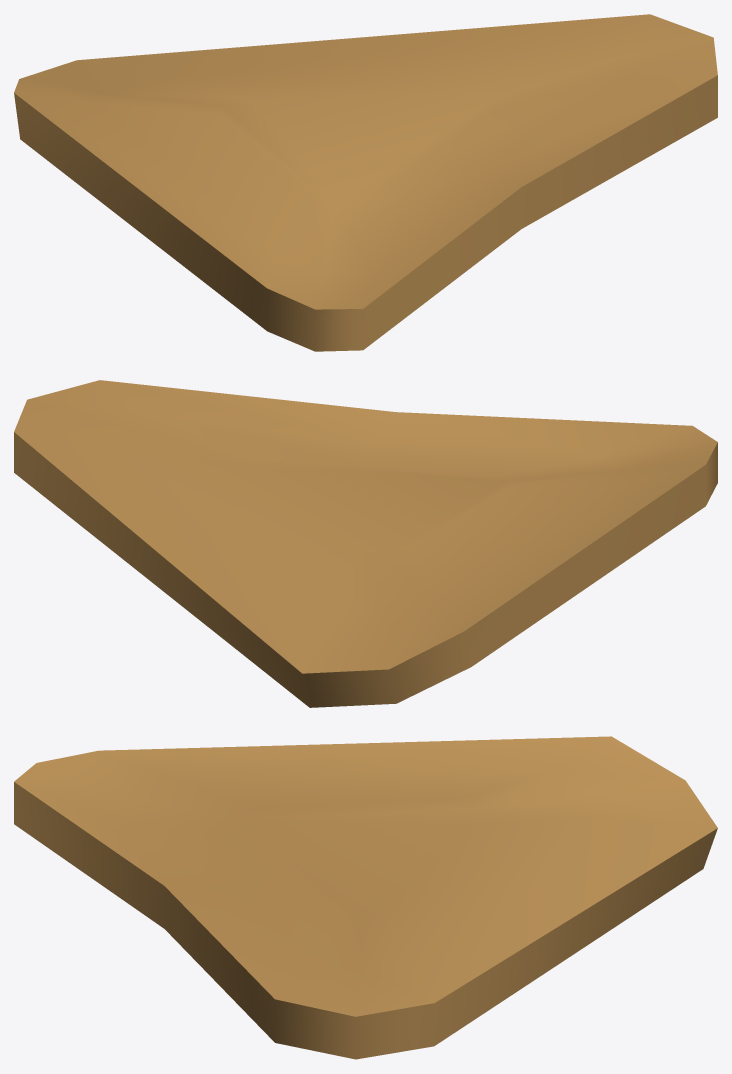
The model's file is Nacho_01.fbx.
The picture shows the model from 3 angles, top to bottom: view 1: azimuth 30°, elevation 25°; view 2: azimuth 150°, elevation 25°; view 3: azimuth 270°, elevation 25°; orthographic projection. The views are drawn at different scales.
Parts seen in each view (by area): view 1: Nacho_01; view 2: Nacho_01; view 3: Nacho_01.
Boxes of the visible parts, box(x1,y1,x2,y2) form: Nacho_01: box(14, 14, 717, 351); Nacho_01: box(14, 380, 717, 707); Nacho_01: box(14, 736, 717, 1059).
Size of the model in its own units: 0.0644 by 0.00961 by 0.0667.
